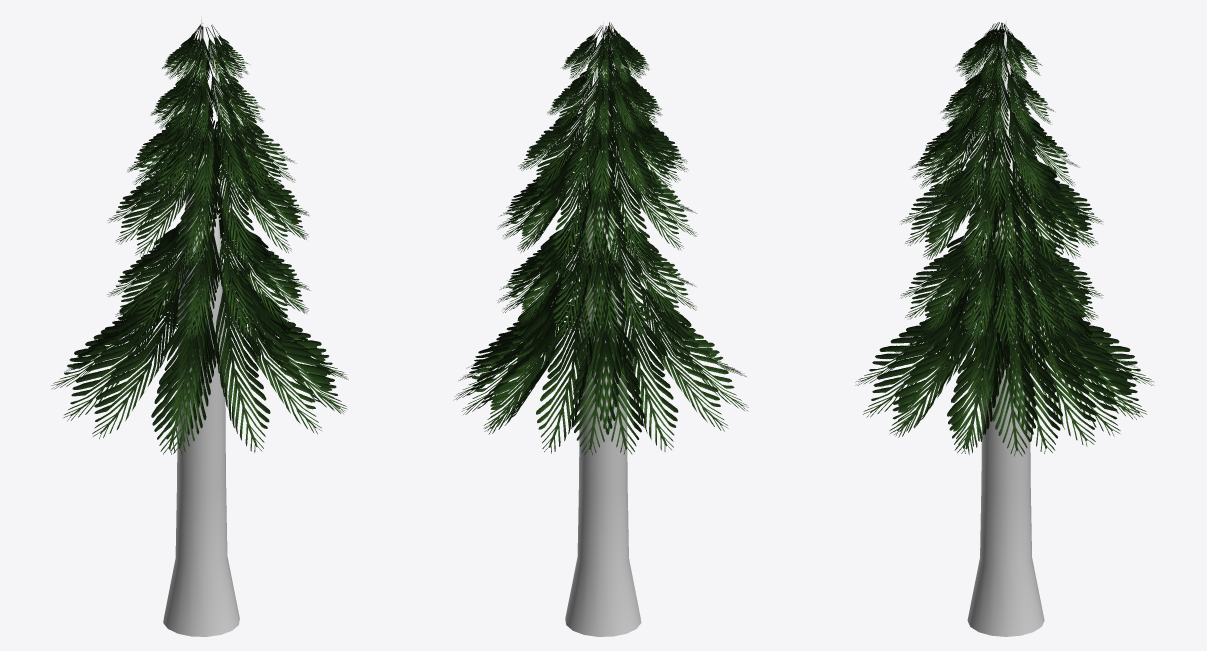
File: projeto arvore prefab3.fbx
3 renders of one model, left to right at view 1: azimuth 30°, elevation 25°; view 2: azimuth 150°, elevation 25°; view 3: azimuth 270°, elevation 25°, orthographic.
Visible parts, largest first — view 1: Pinheiro.201, Pinheiro.121; view 2: Pinheiro.201, Pinheiro.121; view 3: Pinheiro.201, Pinheiro.121.
Part boxes in pixels (x1,y1,x2,y2): Pinheiro.201: [51, 23, 348, 454]; Pinheiro.121: [163, 16, 239, 636]; Pinheiro.201: [453, 22, 748, 454]; Pinheiro.121: [565, 22, 641, 636]; Pinheiro.201: [855, 22, 1154, 456]; Pinheiro.121: [967, 19, 1044, 636].
Bounding box in the file's own units: 704 × 1254 × 707.
Materials: 2 (1 with a texture image).
